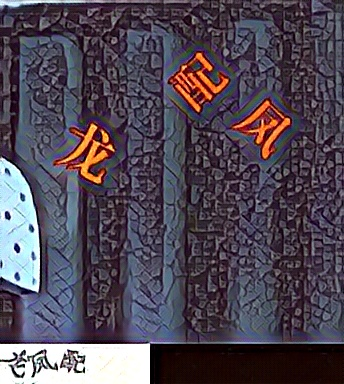B7EF: (228, 94, 291, 160)
C1FA: (53, 121, 116, 187)
C5E4: (167, 48, 230, 114)
